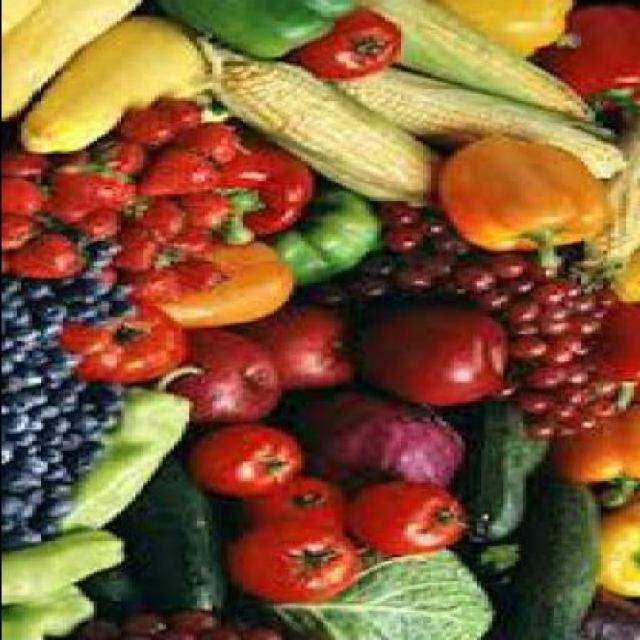BIODEGRADABLE: (203, 44, 445, 208), (333, 70, 629, 181), (372, 2, 602, 126), (15, 17, 211, 155), (444, 136, 614, 275), (65, 370, 207, 536), (88, 446, 226, 612), (247, 551, 498, 638), (4, 2, 145, 122), (288, 391, 463, 487), (442, 400, 556, 545), (497, 486, 603, 639), (372, 306, 517, 408), (157, 244, 295, 334), (158, 2, 364, 60), (268, 189, 387, 289), (168, 327, 287, 425), (532, 6, 638, 116), (211, 140, 318, 245), (57, 304, 192, 387), (226, 526, 365, 606), (238, 304, 360, 390), (342, 481, 471, 559), (4, 532, 130, 608), (548, 406, 638, 512), (184, 426, 307, 502), (429, 2, 583, 60), (218, 476, 352, 538), (292, 11, 406, 83), (594, 130, 638, 272), (3, 584, 100, 638), (597, 306, 638, 417), (594, 502, 638, 598), (138, 154, 227, 198), (54, 168, 138, 212), (4, 234, 84, 278), (580, 589, 638, 640), (122, 111, 192, 151), (181, 127, 245, 164), (92, 143, 153, 180), (114, 234, 168, 272), (176, 190, 230, 228), (610, 243, 638, 309), (142, 198, 188, 238), (172, 259, 226, 290), (3, 180, 46, 217), (126, 272, 169, 308), (3, 217, 46, 251), (8, 155, 57, 183), (157, 97, 200, 128), (380, 228, 429, 255), (472, 546, 518, 574), (398, 270, 442, 298), (123, 613, 172, 638), (46, 195, 88, 223), (168, 230, 214, 255), (430, 236, 476, 261), (410, 254, 456, 278), (158, 270, 192, 302), (518, 370, 567, 392), (173, 610, 222, 632), (84, 215, 127, 240), (72, 618, 120, 638), (383, 206, 426, 228), (360, 255, 403, 277), (456, 268, 498, 290), (88, 395, 130, 417), (517, 392, 555, 416), (471, 292, 514, 313), (491, 258, 540, 276), (418, 215, 456, 238), (518, 338, 552, 362), (353, 276, 387, 298), (42, 478, 73, 502), (11, 457, 54, 474), (314, 285, 352, 304), (548, 279, 586, 298), (548, 338, 586, 356), (35, 305, 73, 323), (4, 475, 42, 493), (27, 278, 58, 300), (3, 393, 34, 415), (197, 626, 249, 639), (559, 387, 590, 408), (73, 415, 104, 436), (3, 415, 34, 436), (564, 296, 598, 315), (46, 389, 80, 408), (80, 281, 108, 304), (4, 495, 27, 523), (532, 289, 571, 305), (567, 363, 595, 385), (26, 389, 54, 411), (16, 370, 50, 388), (42, 500, 76, 518), (89, 242, 122, 260), (502, 276, 536, 293), (587, 289, 621, 306), (30, 320, 61, 338), (514, 323, 548, 339), (38, 466, 72, 482), (3, 279, 31, 298), (594, 378, 621, 397), (529, 419, 556, 438), (11, 332, 38, 351), (84, 282, 116, 298), (514, 306, 544, 323), (540, 308, 574, 323), (548, 406, 578, 423), (58, 353, 88, 370), (80, 442, 108, 460), (42, 368, 73, 384), (7, 532, 38, 548), (571, 415, 598, 433), (27, 487, 50, 508), (34, 519, 61, 536), (544, 323, 582, 335), (587, 406, 621, 419), (50, 419, 73, 438), (84, 262, 111, 278), (69, 459, 96, 475), (49, 287, 77, 302), (76, 421, 104, 436), (4, 375, 27, 393), (544, 353, 578, 365), (4, 351, 38, 363), (99, 383, 130, 395), (4, 295, 27, 311), (62, 381, 92, 393), (15, 436, 42, 449), (73, 308, 96, 323), (104, 413, 122, 432), (42, 451, 69, 463), (119, 283, 138, 300), (114, 306, 138, 319), (88, 321, 112, 334), (38, 353, 57, 369), (586, 306, 609, 319), (556, 425, 578, 438), (4, 314, 27, 326), (38, 340, 62, 351), (23, 506, 39, 522), (4, 447, 19, 464), (65, 438, 84, 451), (81, 402, 96, 418), (96, 300, 115, 312), (3, 362, 15, 378), (19, 448, 38, 458), (85, 438, 103, 448), (586, 326, 602, 336), (30, 421, 42, 432), (168, 634, 197, 638)
